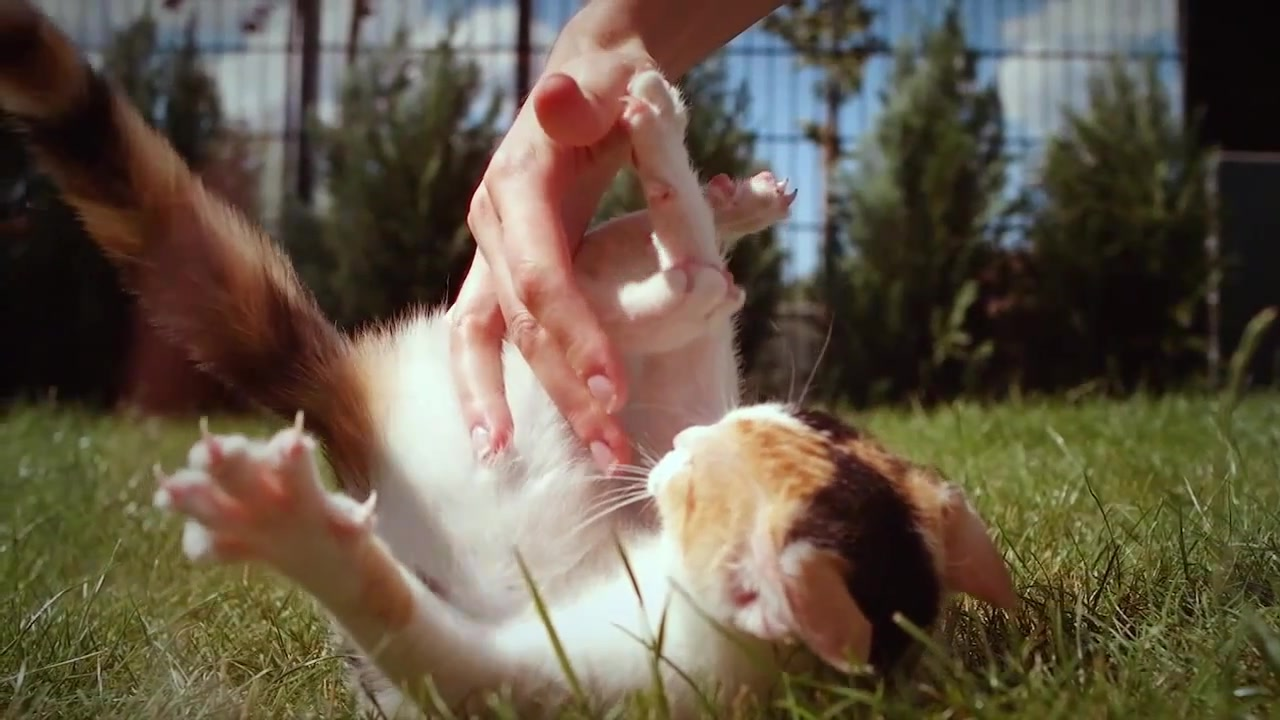cat: (1, 1, 1022, 720)
